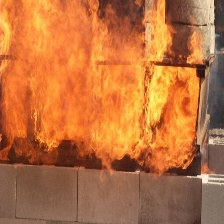fire: (1, 1, 208, 176)
